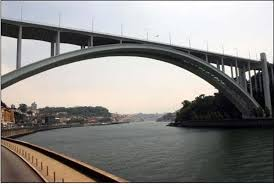arrabida: (0, 19, 273, 119)
